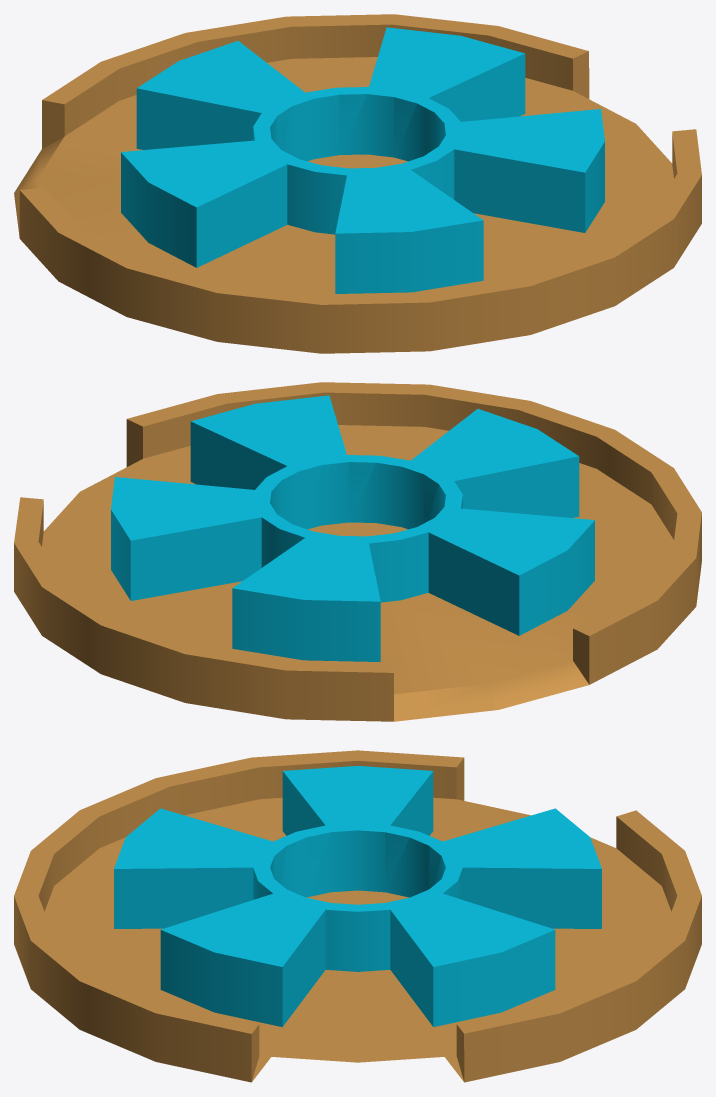
The model's file is AssetsForUnityExtra(2).fbx.
3 views of the same model, one above another, from view 1: azimuth 30°, elevation 25°; view 2: azimuth 150°, elevation 25°; view 3: azimuth 270°, elevation 25° (orthographic).
Visible parts, largest first — view 1: pCylinder29, pCylinder27; view 2: pCylinder29, pCylinder27; view 3: pCylinder29, pCylinder27.
Part boxes in pixels (bbox=[...]): pCylinder29: bbox=[14, 14, 701, 353]; pCylinder27: bbox=[121, 27, 604, 293]; pCylinder29: bbox=[14, 382, 701, 721]; pCylinder27: bbox=[111, 395, 594, 661]; pCylinder29: bbox=[14, 750, 701, 1082]; pCylinder27: bbox=[114, 766, 601, 1026].
Size of the model in its own units: 6.4 by 0.808 by 6.56.
